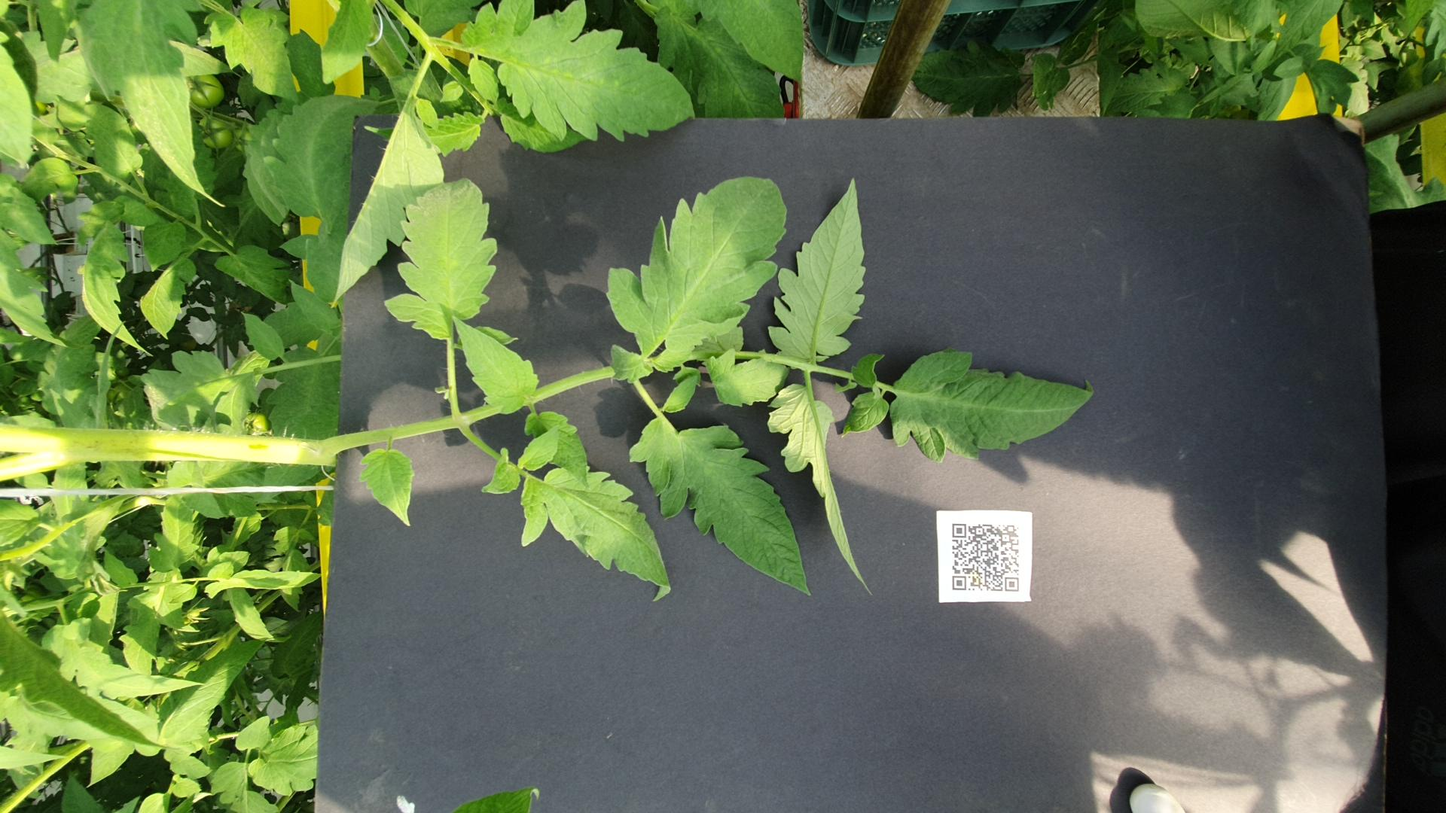Healthy: (1193, 259, 1446, 391), (382, 353, 704, 456), (812, 340, 1133, 443), (1078, 41, 1446, 127), (907, 147, 1279, 213), (898, 185, 1272, 249), (619, 500, 823, 615), (387, 431, 765, 491), (376, 293, 614, 378), (840, 215, 1130, 280), (804, 432, 1128, 487), (119, 87, 312, 150), (812, 45, 1053, 87), (825, 0, 1042, 46), (708, 254, 884, 304), (1259, 119, 1434, 169), (241, 66, 427, 103), (575, 294, 714, 333), (1174, 276, 1273, 330), (905, 120, 1009, 170), (722, 396, 828, 444), (840, 78, 996, 110), (379, 114, 450, 181), (1299, 179, 1446, 211), (507, 201, 649, 234), (1130, 47, 1267, 81), (431, 83, 565, 112), (300, 127, 401, 164), (1167, 237, 1251, 272), (852, 162, 951, 191), (660, 472, 751, 500), (806, 135, 895, 162), (963, 79, 1054, 105), (608, 290, 691, 315), (566, 270, 652, 293), (1254, 261, 1343, 282), (762, 342, 834, 367), (713, 372, 780, 393), (759, 479, 820, 498)
